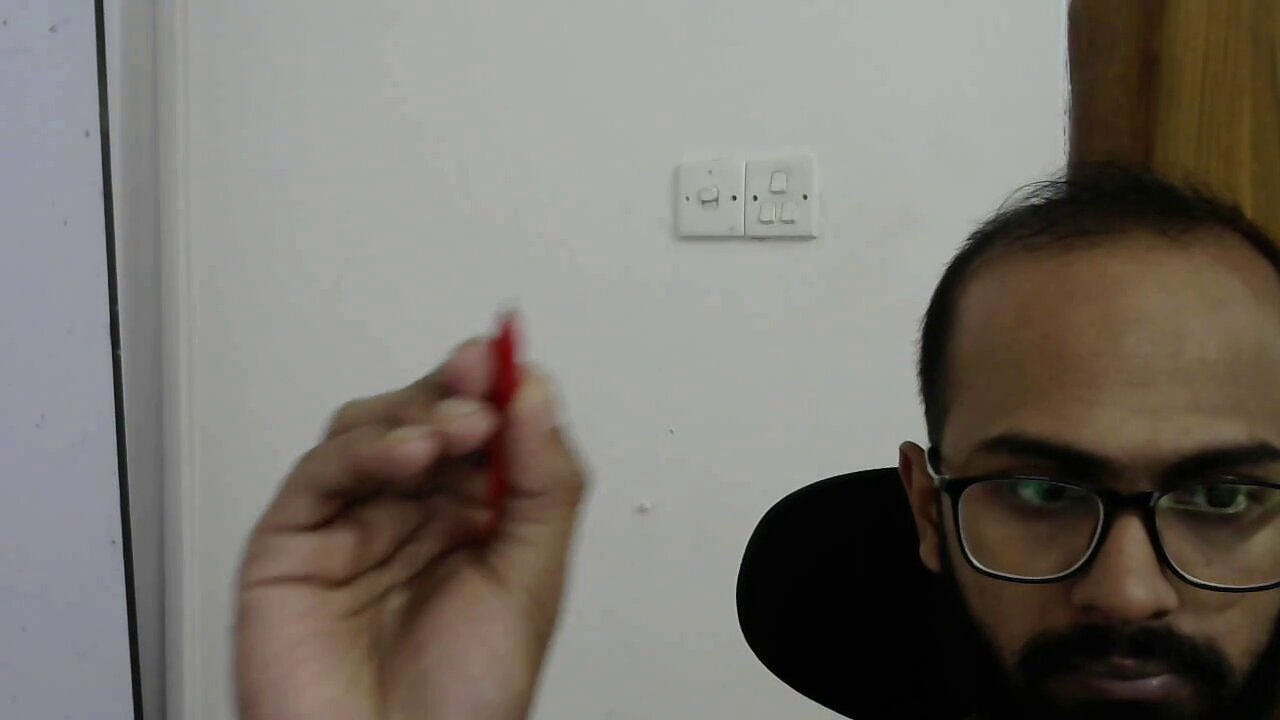pointer: (222, 332, 591, 684)
